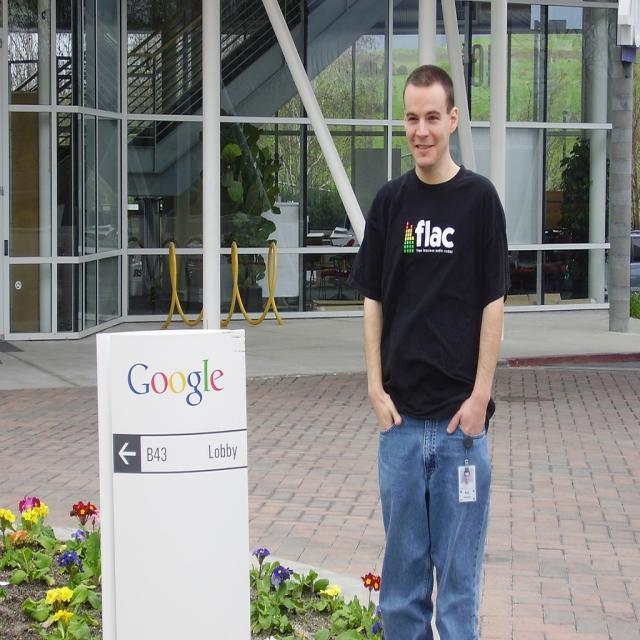google: (126, 356, 231, 410)
